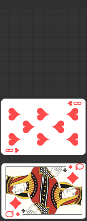10H: (4, 147, 20, 154)
